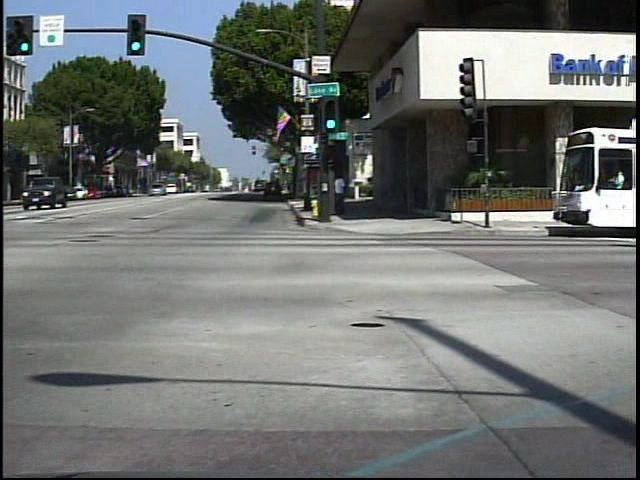person: (333, 170, 355, 219)
